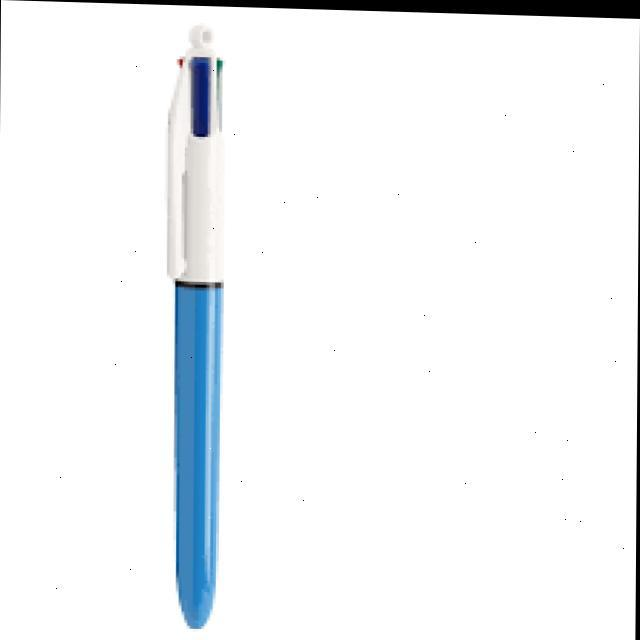pen: (164, 21, 230, 628)
